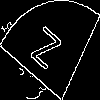Z: (25, 25, 63, 81)
